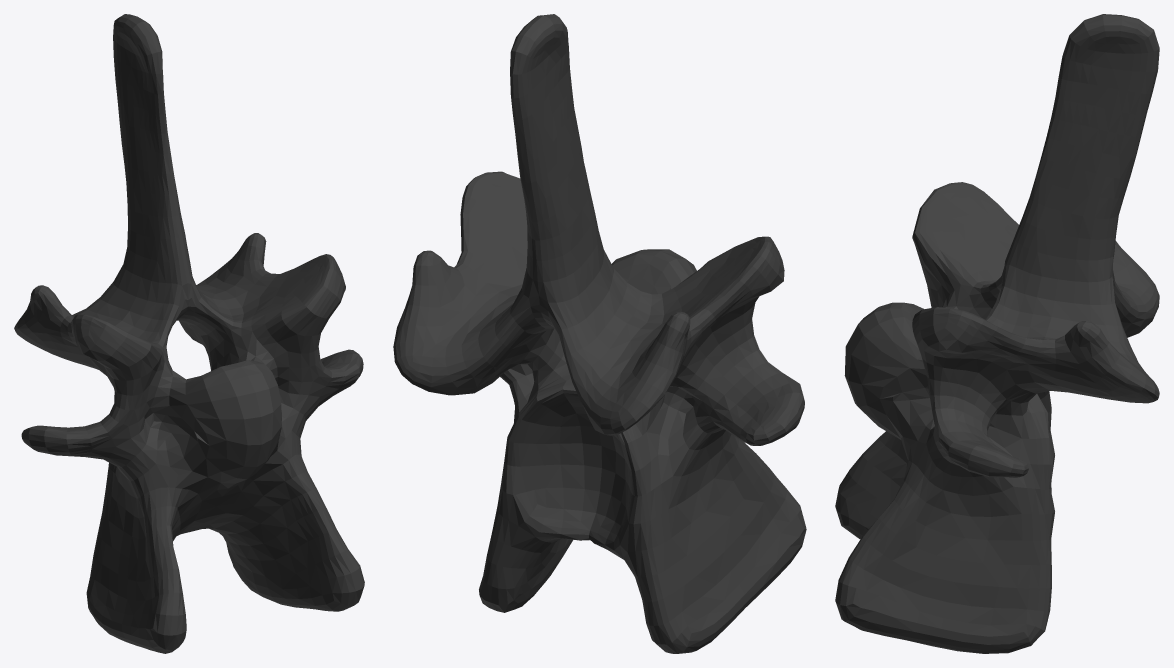
3 views of the same model, side by side, from view 1: azimuth 30°, elevation 25°; view 2: azimuth 150°, elevation 25°; view 3: azimuth 270°, elevation 25° (orthographic). The views are drawn at different scales.
Parts seen in each view (by area): view 1: b_C6_LO; view 2: b_C6_LO; view 3: b_C6_LO.
Boxes of the visible parts, <box> form: b_C6_LO: <box>14,14,364,653</box>; b_C6_LO: <box>393,14,806,653</box>; b_C6_LO: <box>835,14,1159,653</box>.
Size of the model in its own units: 0.00118 by 0.0019 by 0.000936.
1 material, 1 textured.
